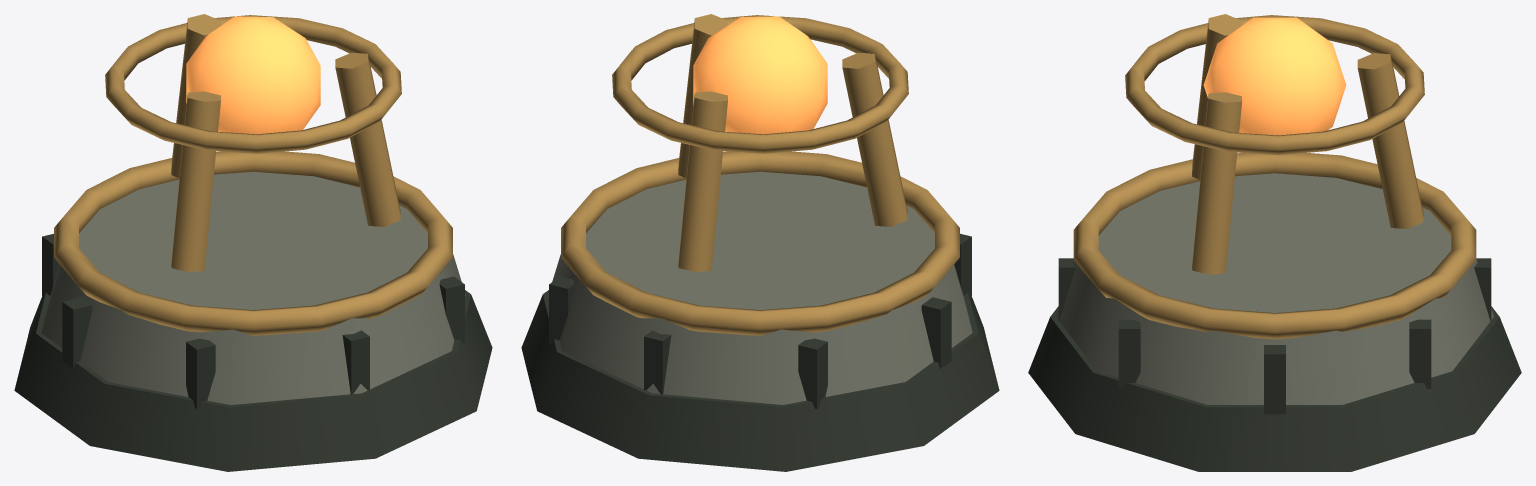
Rendered from tower_meteor.glb.
3 renders of one model, left to right at view 1: azimuth 30°, elevation 25°; view 2: azimuth 150°, elevation 25°; view 3: azimuth 270°, elevation 25°, orthographic.
Parts seen in each view (by area): view 1: stone_1, foot_0, rim_2, meteor_14, armillary_15, claw_13, claw_12, claw_11, mortar_6, mortar_7, mortar_5, mortar_4 (+1 smaller); view 2: stone_1, foot_0, rim_2, meteor_14, armillary_15, claw_11, claw_13, mortar_8, claw_12, mortar_7, mortar_9, mortar_10 (+1 smaller); view 3: stone_1, foot_0, rim_2, meteor_14, armillary_15, claw_12, claw_11, claw_13, mortar_3, mortar_4, mortar_10, mortar_5 (+1 smaller).
Part boxes in pixels (x1,y1,x2,y2): stone_1: (41,171,465,404); foot_0: (14,290,492,471); rim_2: (54,151,452,335); meteor_14: (186,16,320,134); armillary_15: (105,15,401,153); claw_13: (171,91,220,271); claw_12: (335,52,400,226); claw_11: (171,14,220,178); mortar_6: (186,338,215,408); mortar_7: (62,297,92,368); mortar_5: (342,330,369,394); mortar_4: (439,276,464,344); stone_1: (548,171,972,404); foot_0: (521,290,999,471); rim_2: (561,151,959,335); meteor_14: (693,16,827,152); armillary_15: (612,15,908,153); claw_11: (678,91,727,271); claw_13: (842,52,907,226); mortar_8: (798,338,827,408); claw_12: (678,14,727,178); mortar_7: (921,297,951,368); mortar_9: (644,330,671,394); mortar_10: (549,276,574,344); stone_1: (1056,173,1493,404); foot_0: (1028,306,1521,471); rim_2: (1073,153,1476,339); meteor_14: (1203,17,1346,135); armillary_15: (1125,15,1424,155); claw_12: (1192,92,1242,274); claw_11: (1357,53,1423,228); claw_13: (1192,14,1242,179); mortar_3: (1264,345,1285,414); mortar_4: (1118,319,1140,388); mortar_10: (1409,319,1431,388); mortar_5: (1058,258,1075,321).
Bounding box in the file's own units: 0.5326 × 0.441 × 0.56.
